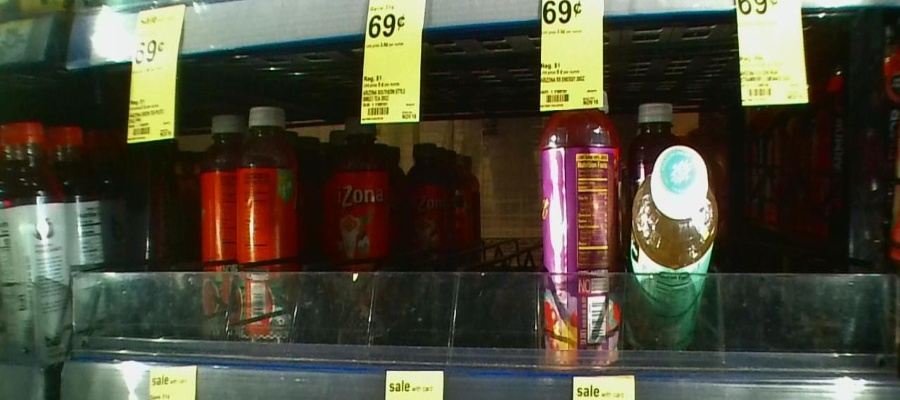bottle: (536, 78, 625, 366), (632, 142, 718, 378), (325, 106, 393, 370), (241, 103, 298, 364), (191, 111, 237, 347)
